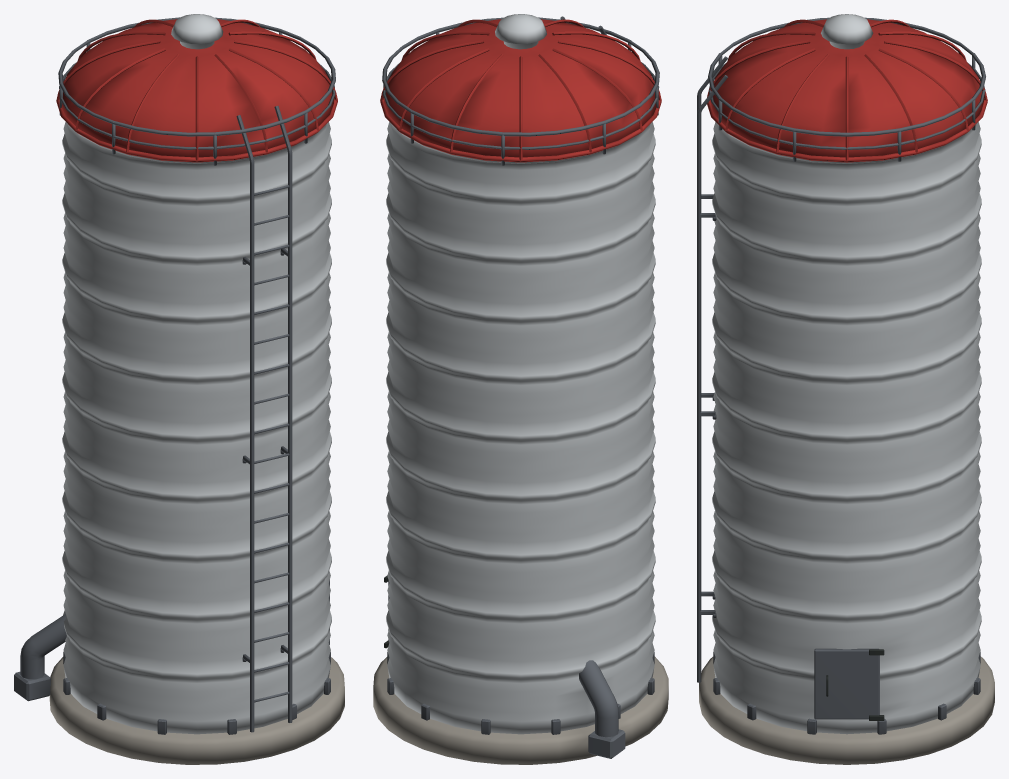
Rendered from silo.glb.
3 views of the same model, side by side, from view 1: azimuth 30°, elevation 25°; view 2: azimuth 150°, elevation 25°; view 3: azimuth 270°, elevation 25° (orthographic).
Parts seen in each view (by area): view 1: silo; view 2: silo; view 3: silo.
Boxes of the visible parts, left/top/right/bottom form: silo: left=14, top=14, right=344, bottom=764; silo: left=373, top=14, right=668, bottom=764; silo: left=697, top=14, right=994, bottom=764.
Size of the model in its own units: 2.8 by 6.9 by 2.72.
